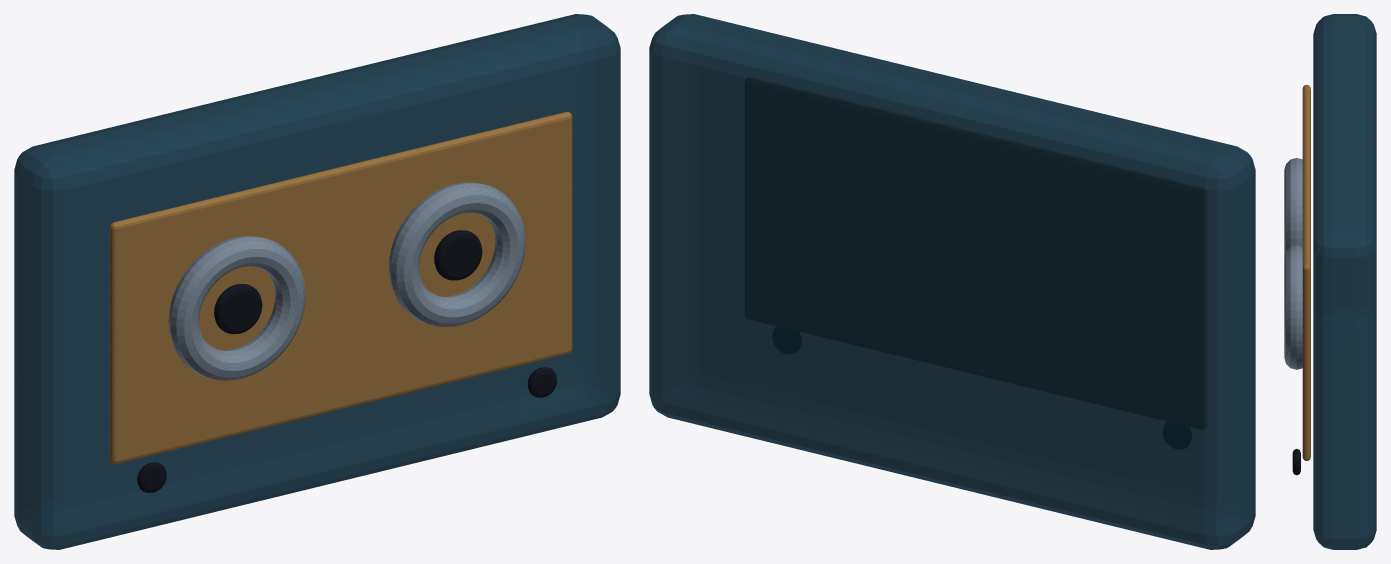
The model's file is cassette-collector.glb.
3 views of the same model, side by side, from view 1: azimuth 30°, elevation 25°; view 2: azimuth 150°, elevation 25°; view 3: azimuth 270°, elevation 25° (orthographic). The views are drawn at different scales.
Visible parts, largest first — view 1: Cassette, Etiquette, Bobine.001, Bobine, Moyeu, Moyeu.001, Trou.001, Trou; view 2: Cassette; view 3: Cassette, Etiquette, Bobine.001, Bobine, Trou.001.
Boxes of the visible parts, left/top/right/bottom form: Cassette: left=14, top=14, right=620, bottom=549; Etiquette: left=109, top=112, right=572, bottom=464; Bobine.001: left=388, top=182, right=525, bottom=326; Bobine: left=168, top=236, right=305, bottom=380; Moyeu: left=214, top=284, right=262, bottom=334; Moyeu.001: left=434, top=230, right=482, bottom=280; Trou.001: left=527, top=367, right=556, bottom=397; Trou: left=137, top=462, right=166, bottom=492; Cassette: left=649, top=14, right=1255, bottom=549; Cassette: left=1313, top=14, right=1376, bottom=549; Etiquette: left=1302, top=84, right=1310, bottom=460; Bobine.001: left=1284, top=245, right=1302, bottom=369; Bobine: left=1284, top=158, right=1302, bottom=256; Trou.001: left=1292, top=449, right=1300, bottom=475.
Bounding box in the file's own units: 3.3 × 2.1 × 0.555.
Materials: 4 (4 with a texture image).
